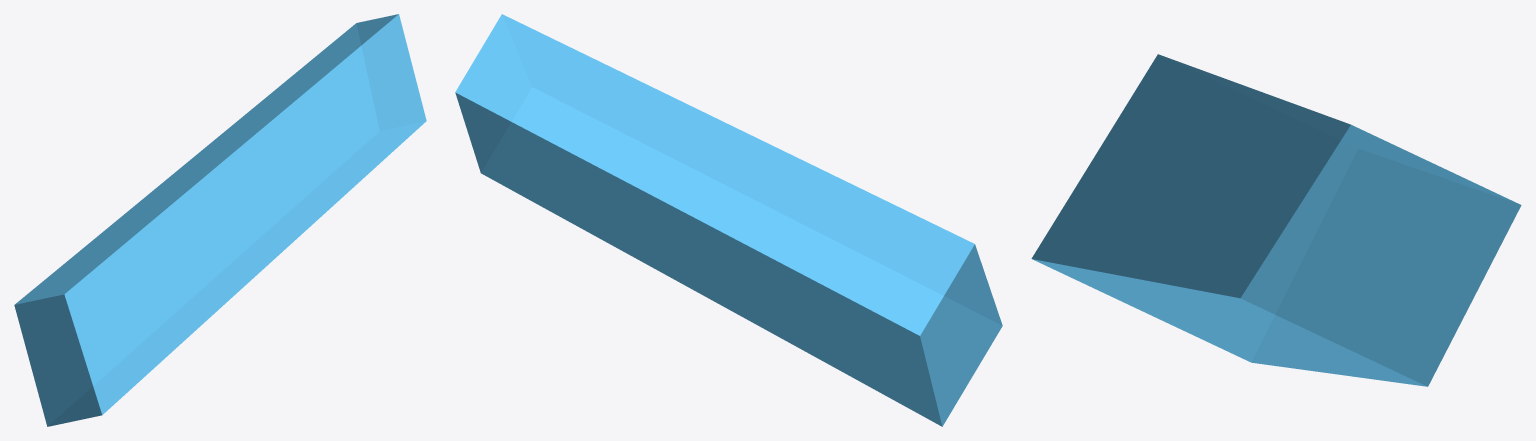
Rendered from Event_420094457_HErechit_3.fbx.
3 renders of one model, left to right at view 1: azimuth 30°, elevation 25°; view 2: azimuth 150°, elevation 25°; view 3: azimuth 270°, elevation 25°, orthographic. The views are drawn at different scales.
Visible parts, largest first — view 1: Model; view 2: Model; view 3: Model.
Boxes of the visible parts, left/top/right/bottom form: Model: left=14, top=14, right=426, bottom=426; Model: left=455, top=14, right=1002, bottom=426; Model: left=1031, top=54, right=1521, bottom=386.
Size of the model in its own units: 1.74 by 1.32 by 0.9673.
